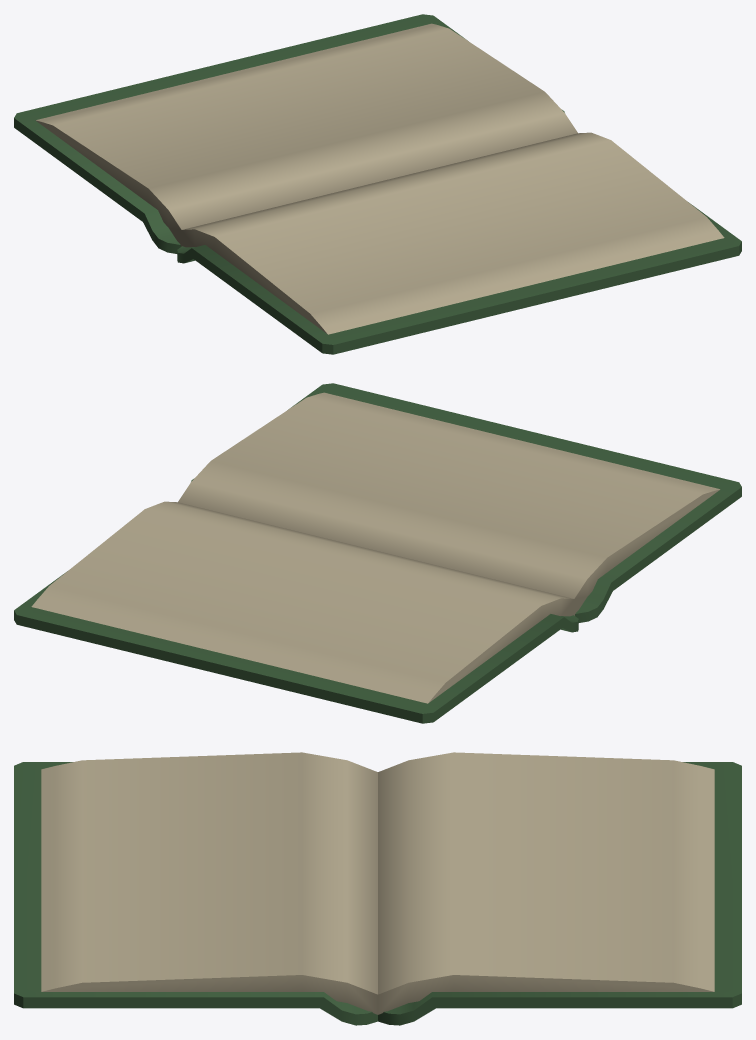
The model's file is Hub_Diary.fbx.
3 renders of one model, top to bottom at view 1: azimuth 30°, elevation 25°; view 2: azimuth 150°, elevation 25°; view 3: azimuth 270°, elevation 25°, orthographic. The views are drawn at different scales.
Parts seen in each view (by area): view 1: Hub_Diary; view 2: Hub_Diary; view 3: Hub_Diary.
Part boxes in pixels (bbox=[...]): Hub_Diary: bbox=[14, 14, 741, 354]; Hub_Diary: bbox=[14, 383, 741, 723]; Hub_Diary: bbox=[14, 752, 741, 1025].
Size of the model in its own units: 0.3912 by 0.2994 by 0.0291.
